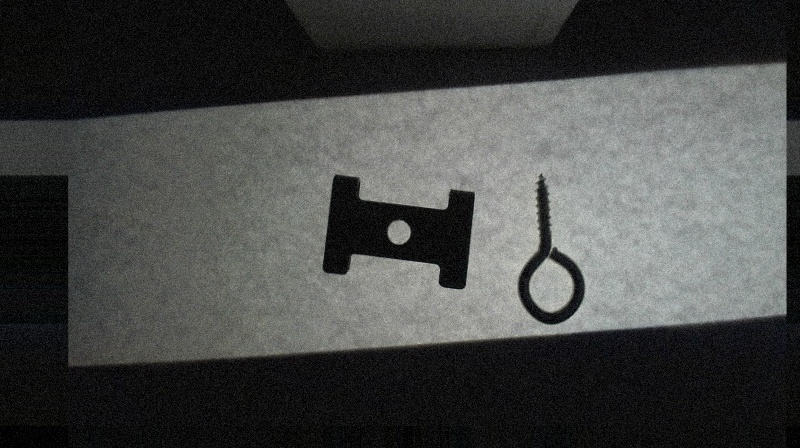O001: (514, 170, 586, 325)
O002: (323, 174, 473, 290)
